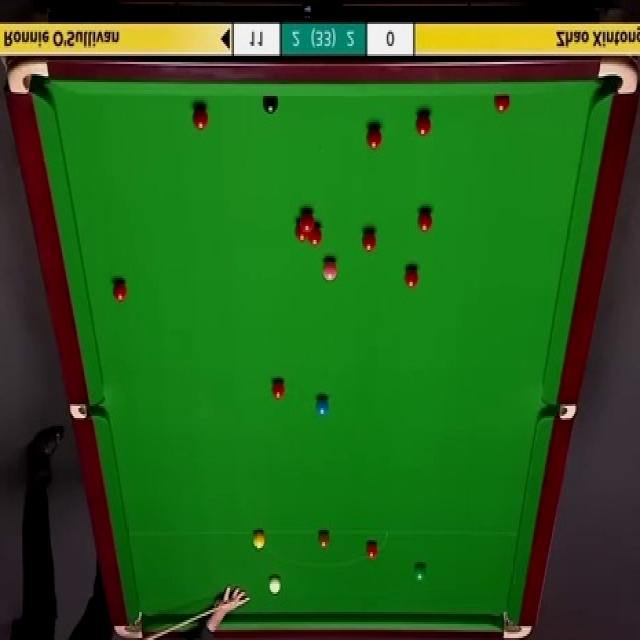black-ball: (261, 97, 278, 117)
blue-ball: (315, 396, 330, 416)
brown-ball: (318, 532, 330, 552)
green-ball: (412, 562, 426, 584)
pink-ball: (322, 256, 339, 281)
red-ball: (270, 377, 289, 401), (365, 126, 382, 150), (112, 275, 127, 302), (418, 207, 433, 234), (192, 106, 208, 129), (362, 230, 377, 254), (492, 95, 512, 113), (416, 113, 433, 134), (294, 218, 308, 242), (364, 541, 379, 562), (309, 222, 322, 246), (300, 210, 316, 229), (404, 268, 418, 288)
white-ball: (267, 574, 282, 596)
yellow-ball: (252, 531, 266, 549)
